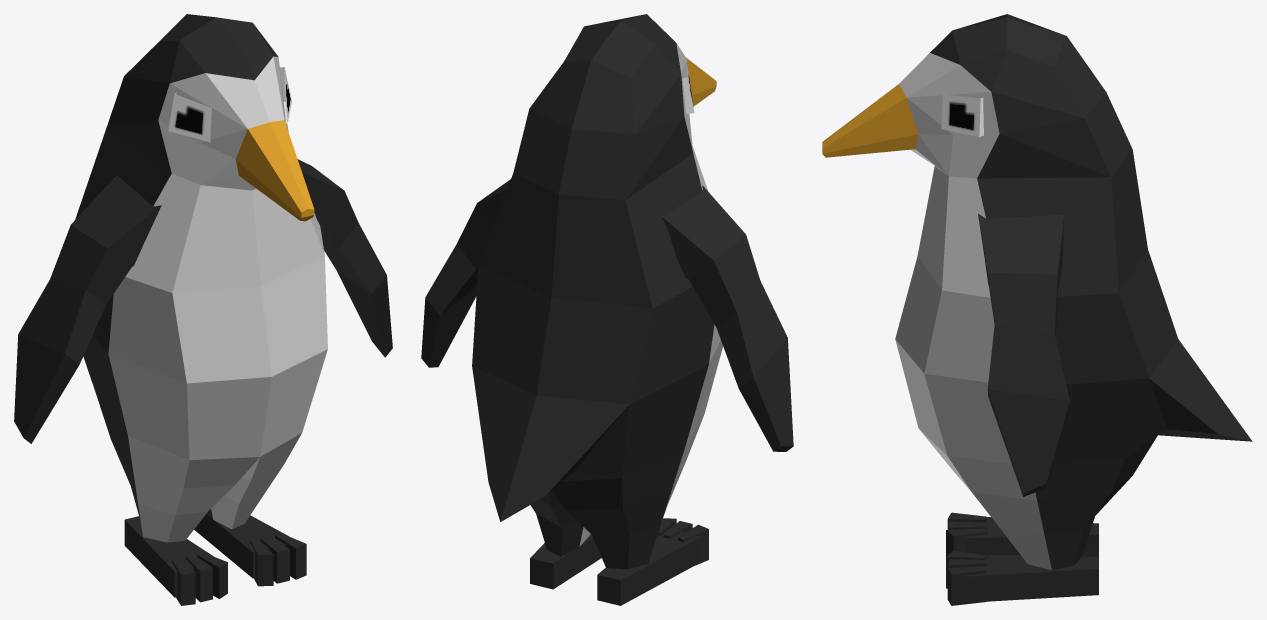
The model's file is qie.FBX.
The picture shows the model from 3 angles, left to right: view 1: azimuth 30°, elevation 25°; view 2: azimuth 150°, elevation 25°; view 3: azimuth 270°, elevation 25°; orthographic projection. The views are drawn at different scales.
Parts seen in each view (by area): view 1: qie; view 2: qie; view 3: qie.
Part boxes in pixels (x1,y1,x2,y2): qie: (14, 14, 392, 605); qie: (421, 14, 793, 605); qie: (822, 14, 1252, 605).
Size of the model in its own units: 229 by 327 by 229.
